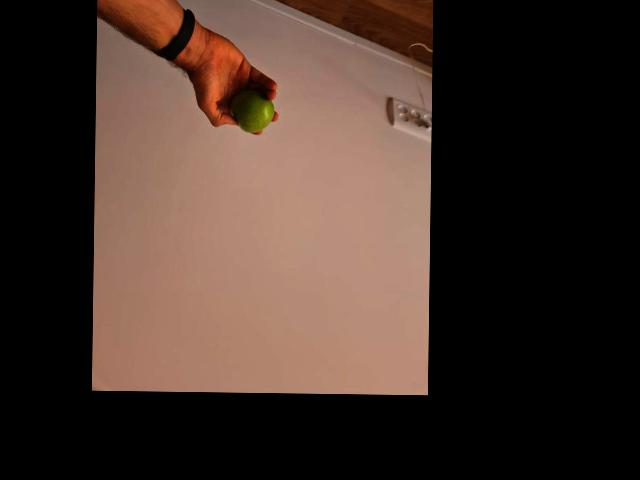apple: (233, 90, 275, 133)
